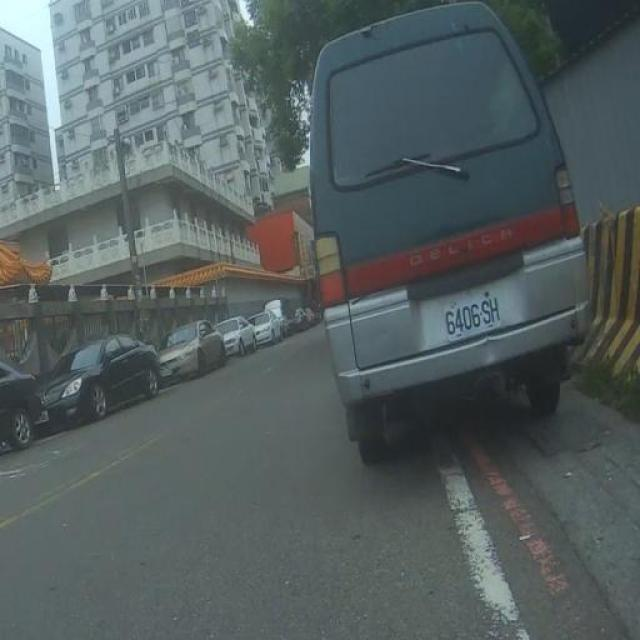Legalparking: (0, 262, 315, 438)
illegalparking: (272, 0, 640, 465)
